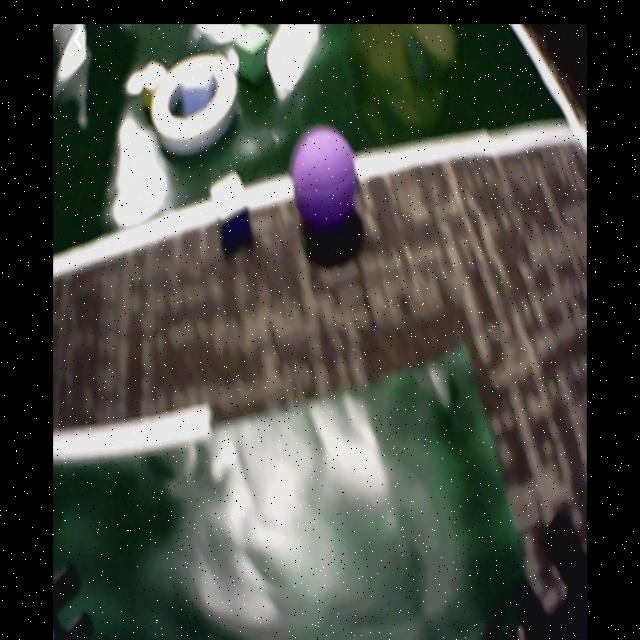ball: (292, 128, 355, 232)
